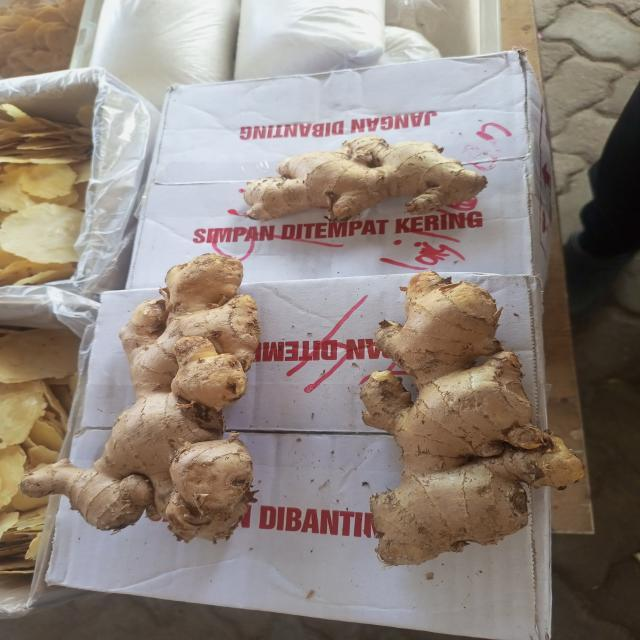ginger: (366, 276, 576, 570), (139, 266, 265, 531), (248, 152, 511, 216)
